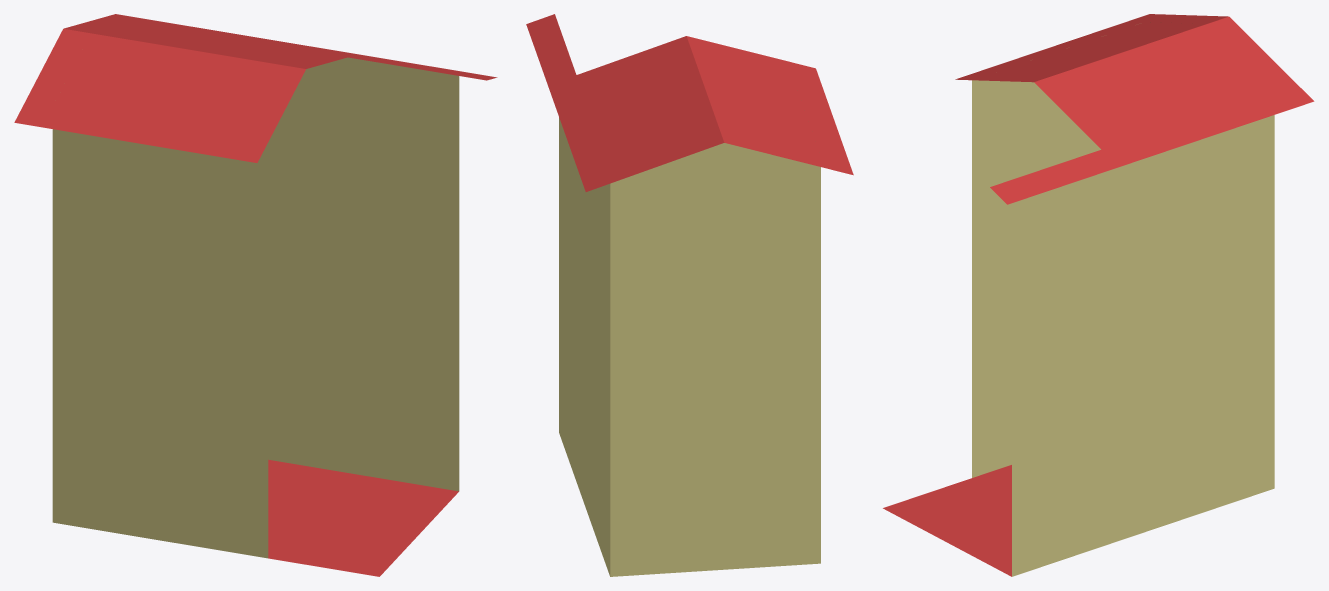
The picture shows the model from 3 angles, left to right: view 1: azimuth 30°, elevation 25°; view 2: azimuth 150°, elevation 25°; view 3: azimuth 270°, elevation 25°; orthographic projection. The views are drawn at different scales.
Bounding box in the file's own units: 7.97 × 7.63 × 8.35.
